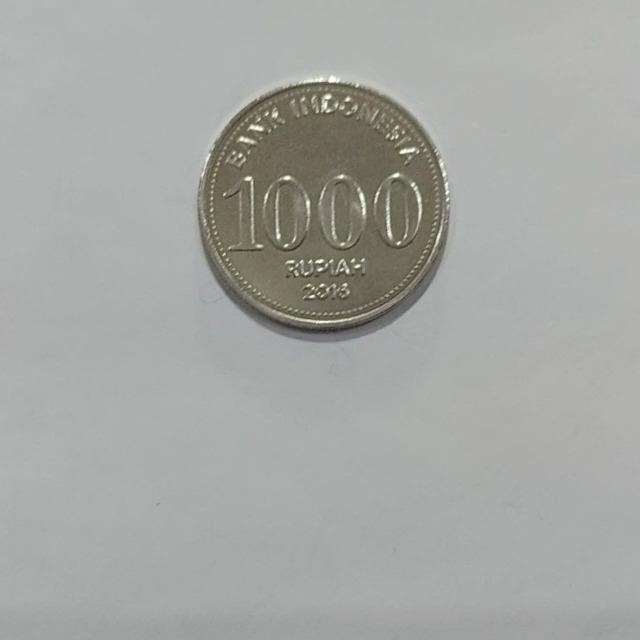Rp100: (195, 75, 451, 334)
